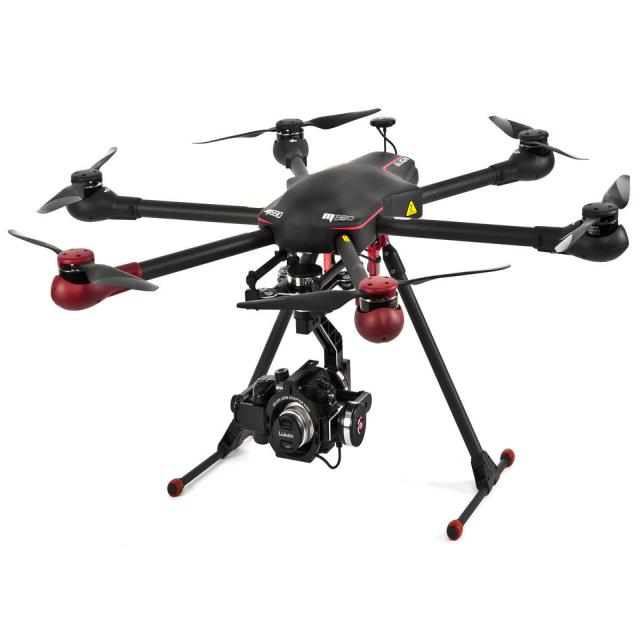drone: (43, 82, 640, 539)
